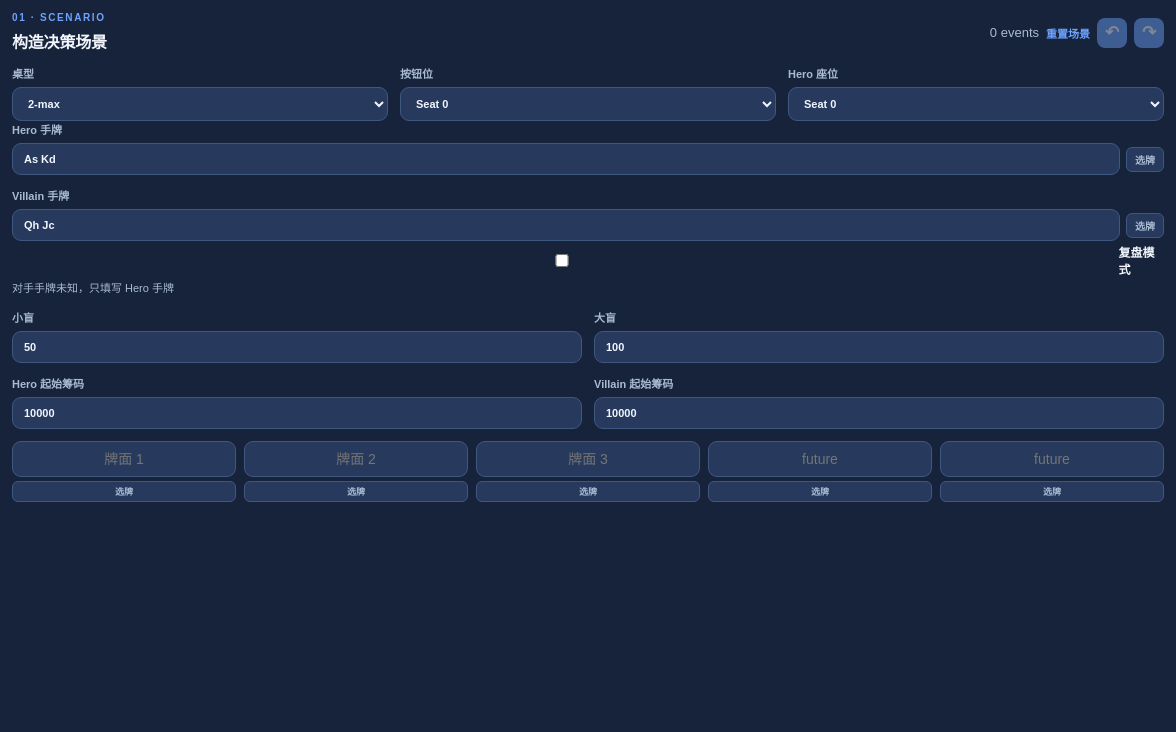
Test: ScenarioEditor review mode (hero-only) › clears villain cards and disables the input when enabled
The image size is (1176, 732).
Click the checkbox labelled "复盘模式": [562, 260] box [16,254,1108,266]
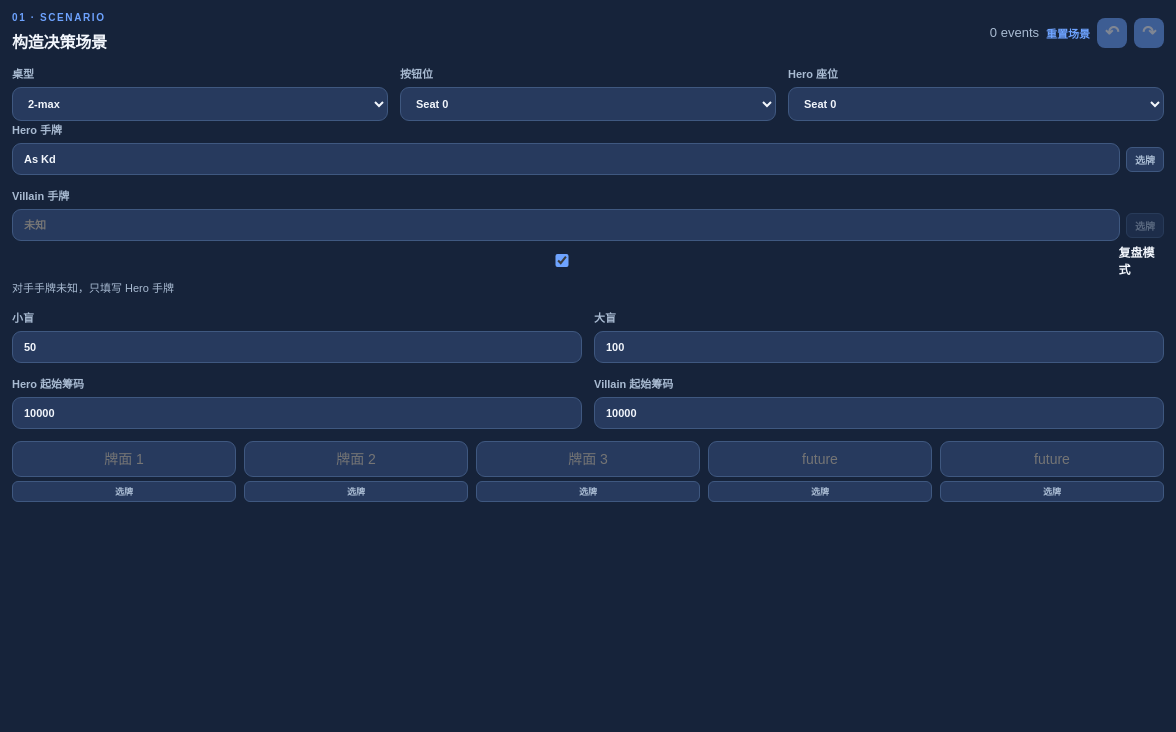
Now the field labelled "Villain 手牌" is disabled, box [12,209,1120,241]
